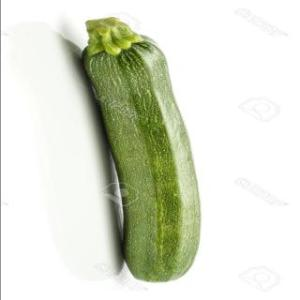zucchini: (70, 8, 206, 282)
